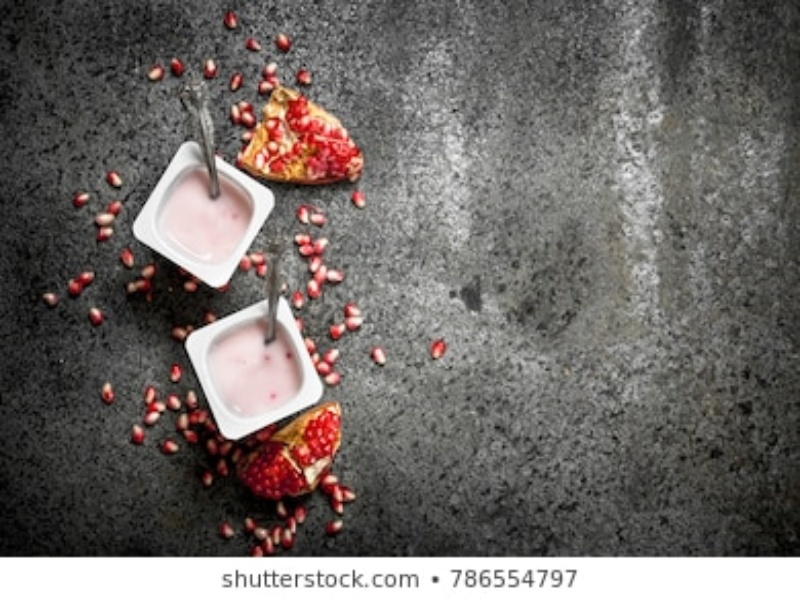yogurt-cup: (129, 139, 272, 294), (183, 297, 330, 442)
